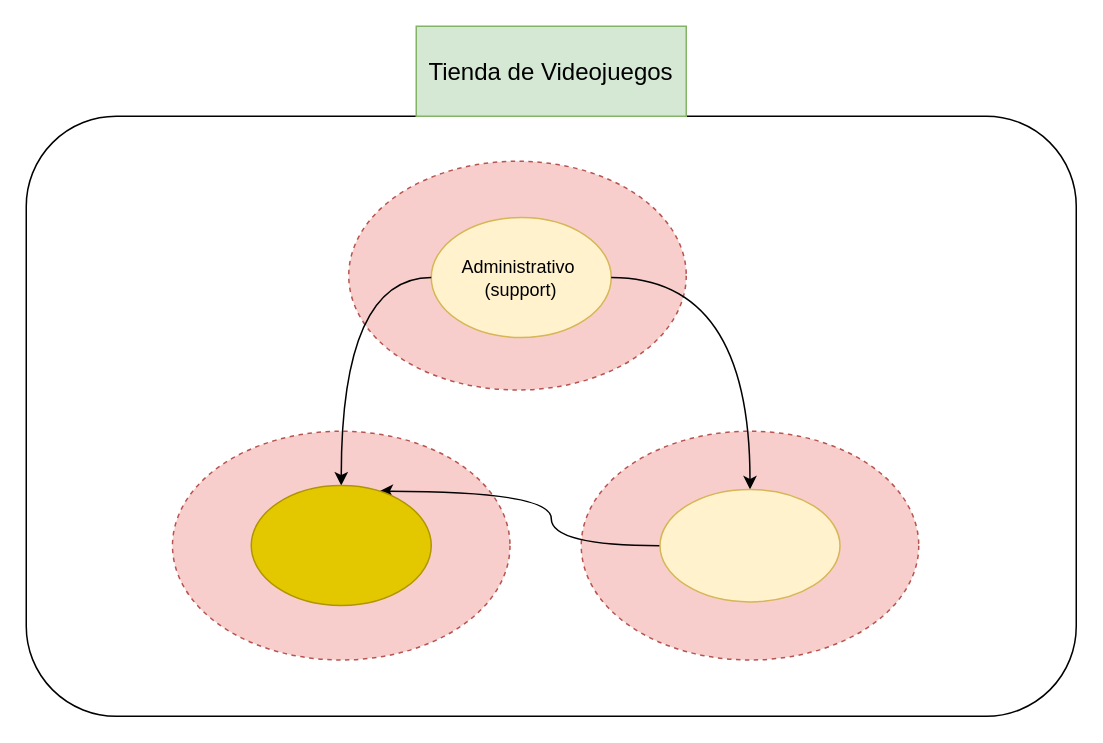
This 1103x743 diagram has some shape labels left out. Here are the shapes that lost their labels. From the top down, the box of each, then its label:
(250, 484, 431, 606): Ventas y Servicio al Cliente (Core)
(658, 488, 840, 602): Compras (support)
